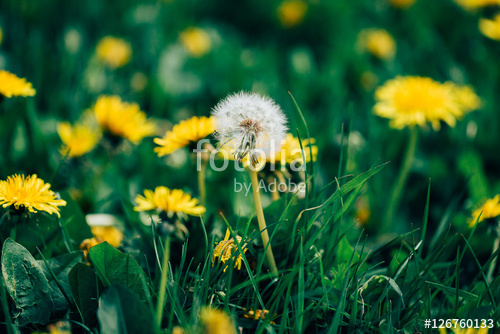dandelion: (372, 75, 477, 131), (129, 180, 201, 226), (4, 169, 63, 219), (154, 120, 212, 154)
